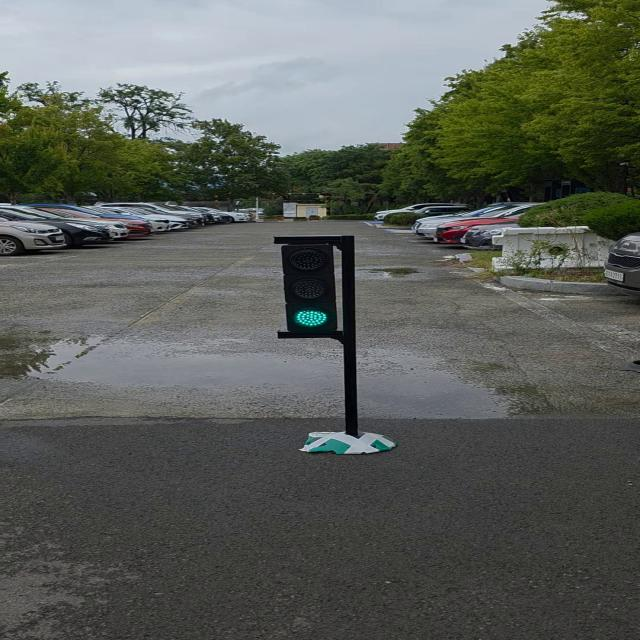green: (283, 237, 351, 336)
